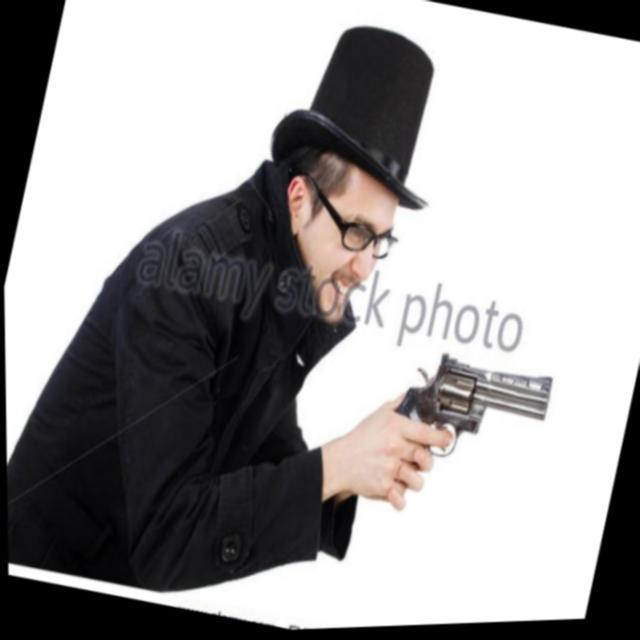weapon: (382, 342, 554, 484)
